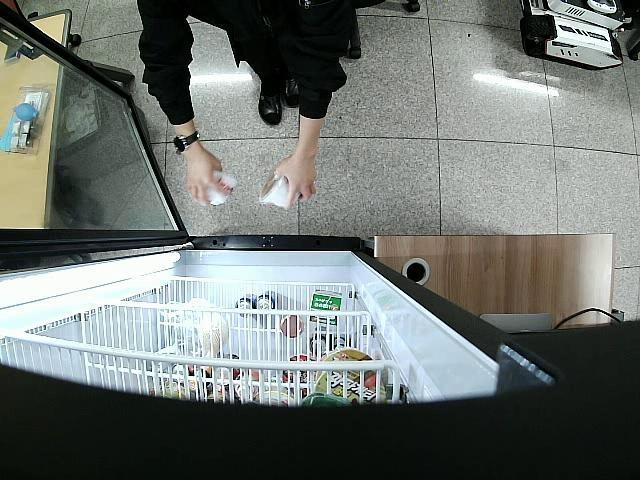09_yukGaeJang: (260, 158, 301, 211), (197, 168, 238, 206)
